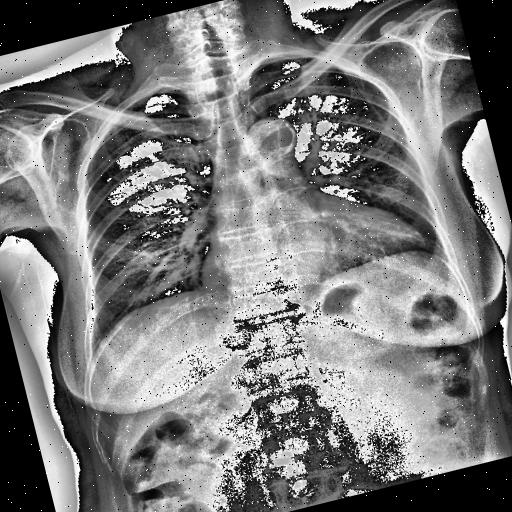0- Aortic enlargement: (235, 110, 305, 174), (240, 112, 302, 174), (238, 112, 300, 166)
2- Calcification: (276, 122, 300, 155)
3- Cardiomegaly: (194, 198, 434, 308), (192, 193, 424, 302), (196, 210, 424, 305)
